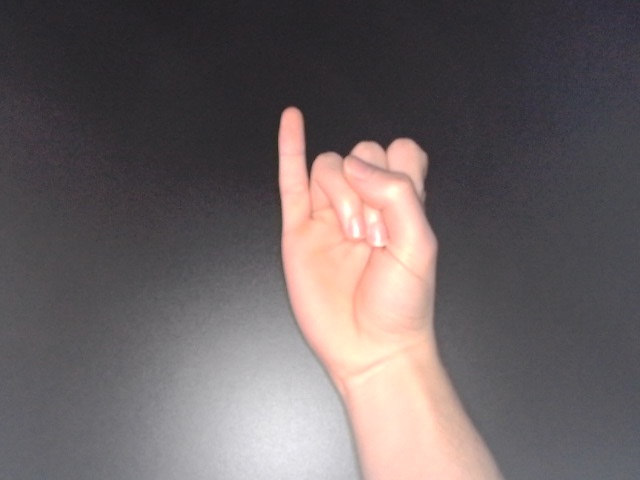i: (273, 102, 444, 395)
